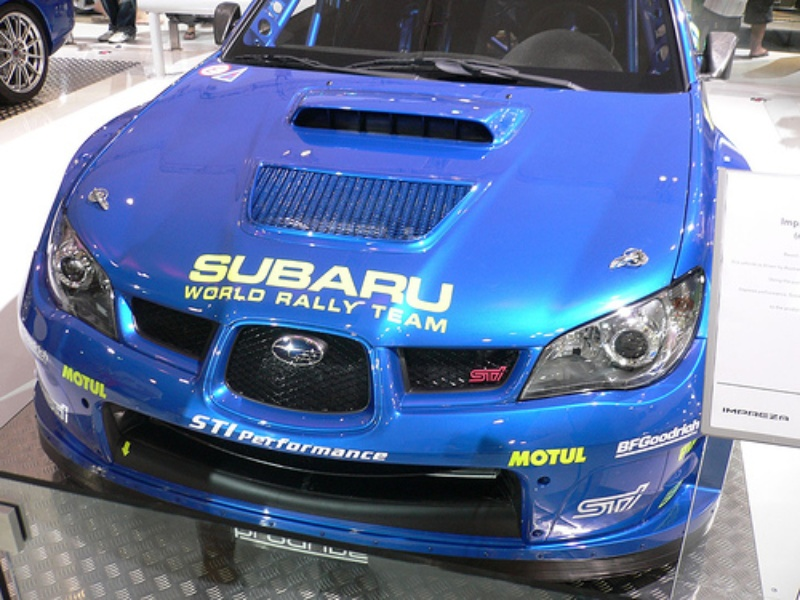car: (16, 1, 752, 580), (1, 1, 74, 104)
